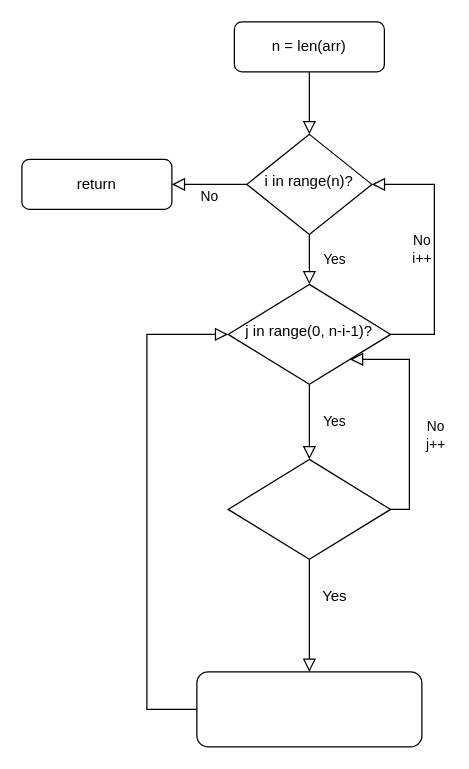
Image size: 469x769. Some labels were removed from this diagram. The shapes that lost their labels are listed below. From the top down, each one's centre as x and y in pixels, then its label:
pixel 309 508: arr[j] > arr[j+1] ?
pixel 309 709: arr[j], arr[j+1] = arr[j+1], arr[j] j++
